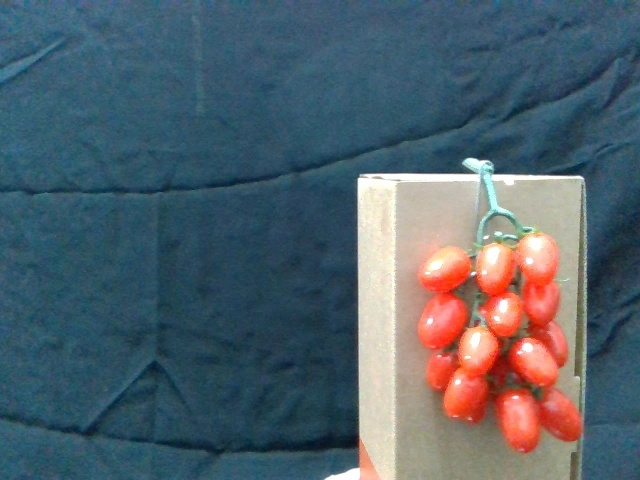tomato: (495, 388, 543, 457), (418, 295, 471, 350), (507, 335, 562, 388), (538, 388, 586, 444), (457, 324, 503, 380), (441, 372, 488, 426), (475, 240, 519, 297), (519, 227, 562, 282), (422, 246, 471, 291), (521, 279, 562, 327), (532, 316, 572, 365), (485, 291, 523, 338), (425, 352, 460, 392)
